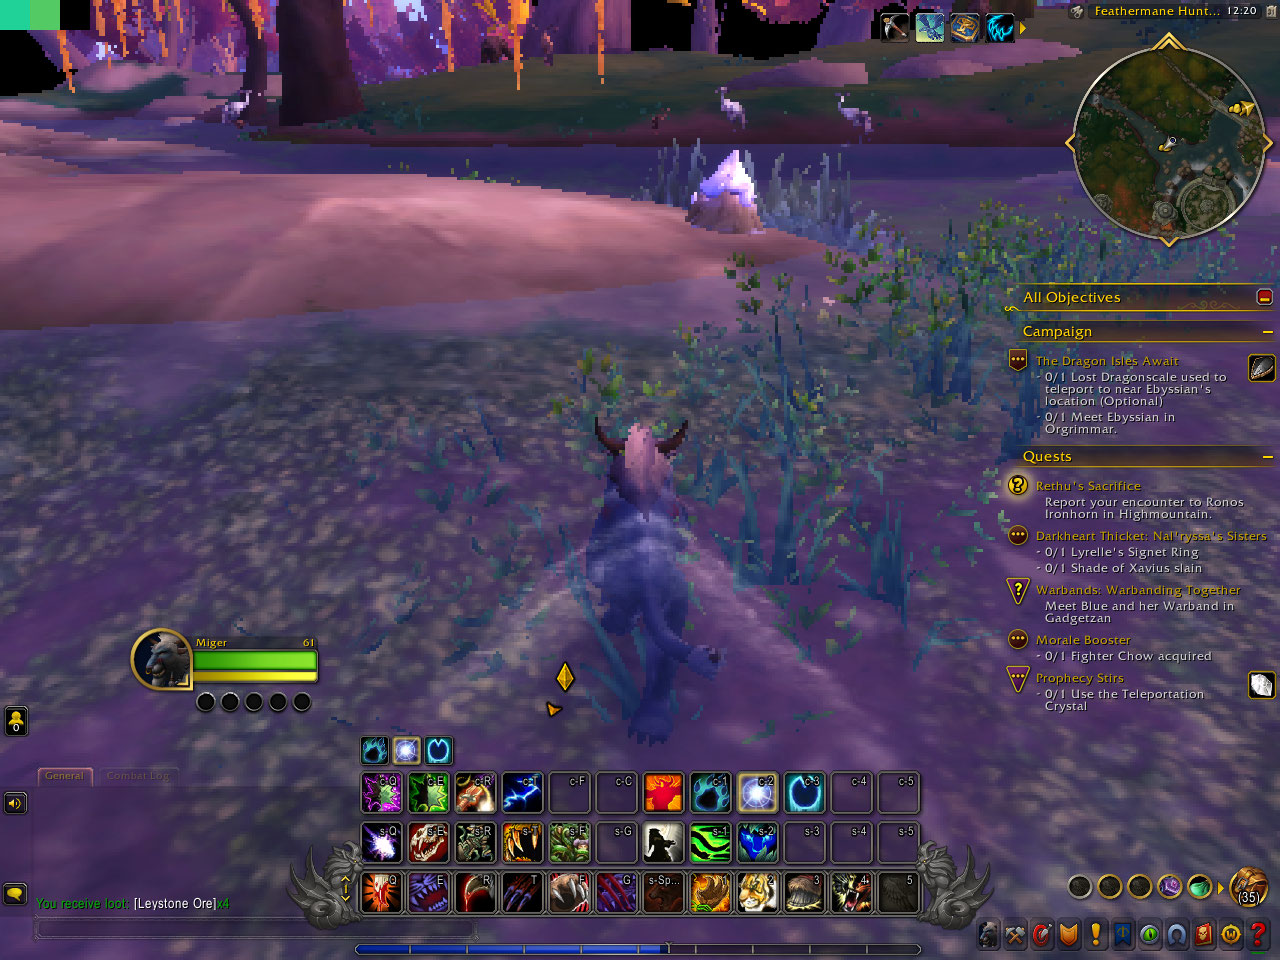ore: (686, 148, 758, 234)
